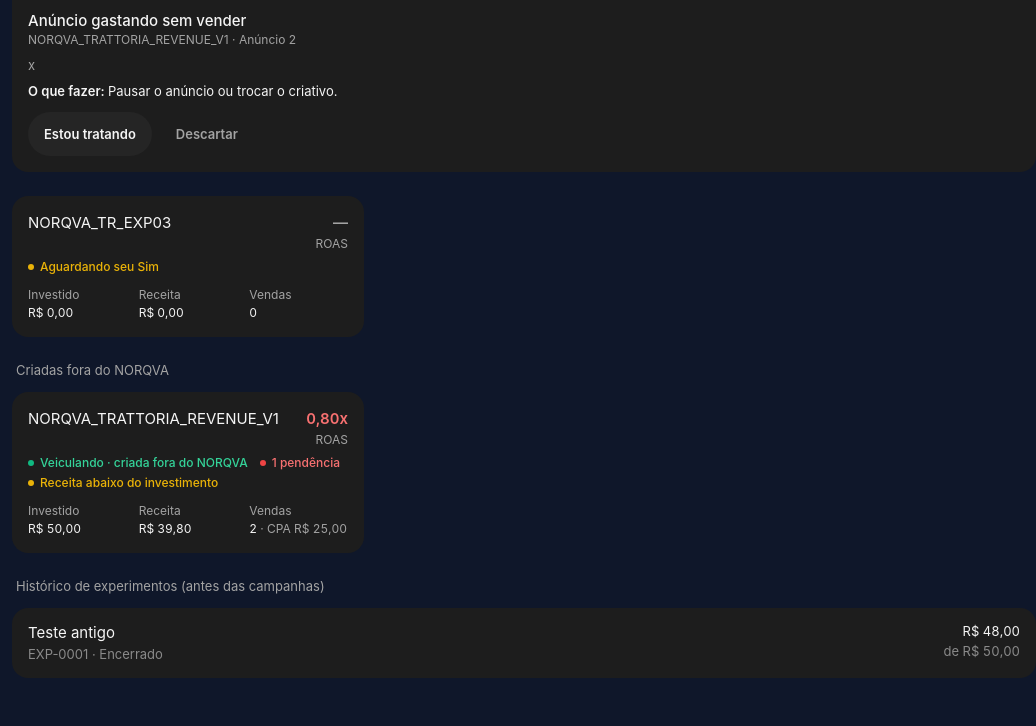
Test case: NORQVA-0028 — campanha completa na tela Campanhas › campanha de fora abre só resultado e controle, filtrados por ela
The image size is (1036, 726).
(page scrolled)
What coordinates should you click on to do the following:
click the button with test id "external-campaign"
I would click on:
 (188, 472)
Its box is [12,392,364,552].
(page scrolled)
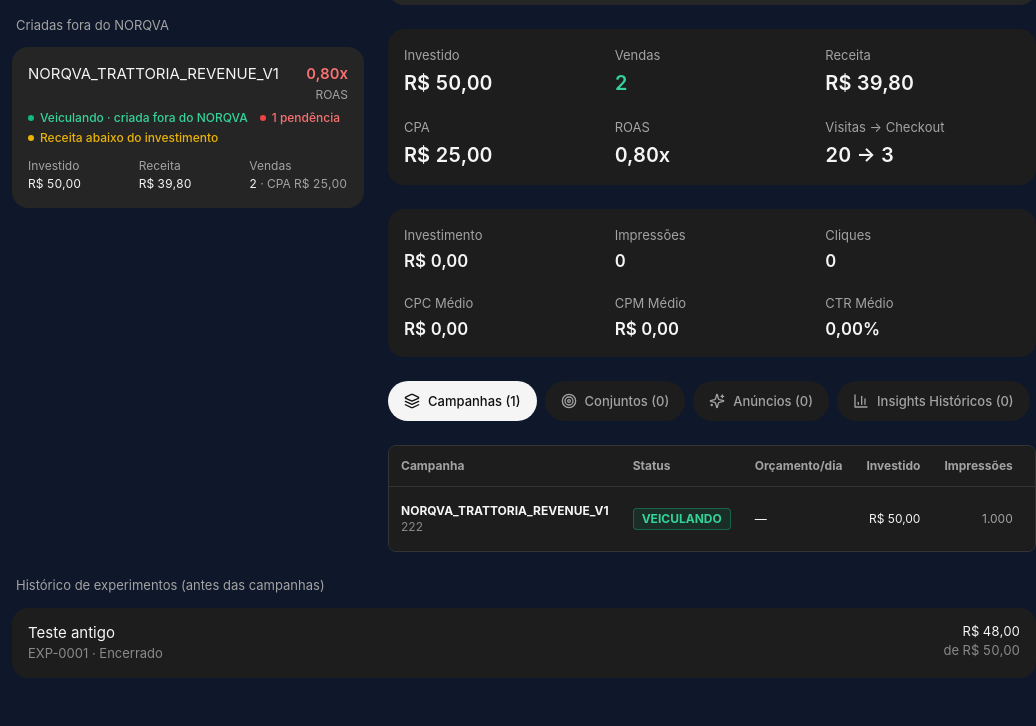
Result: the text "222" is shown at [401,519,423,534]
